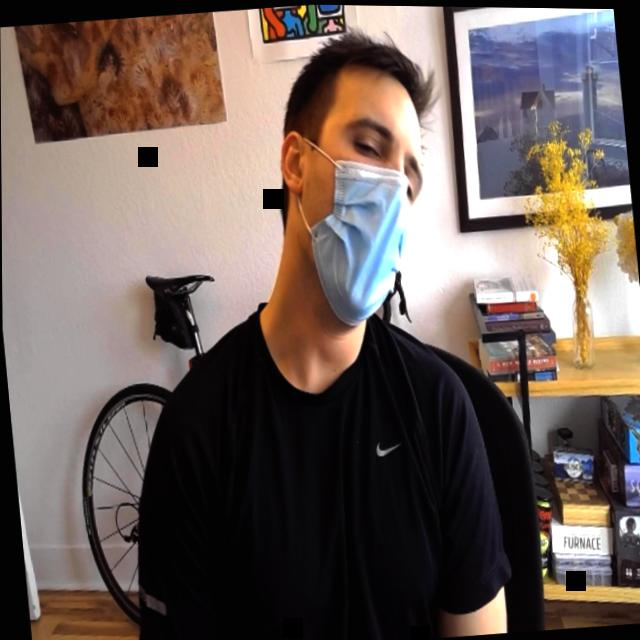Mask: (280, 58, 439, 334)
